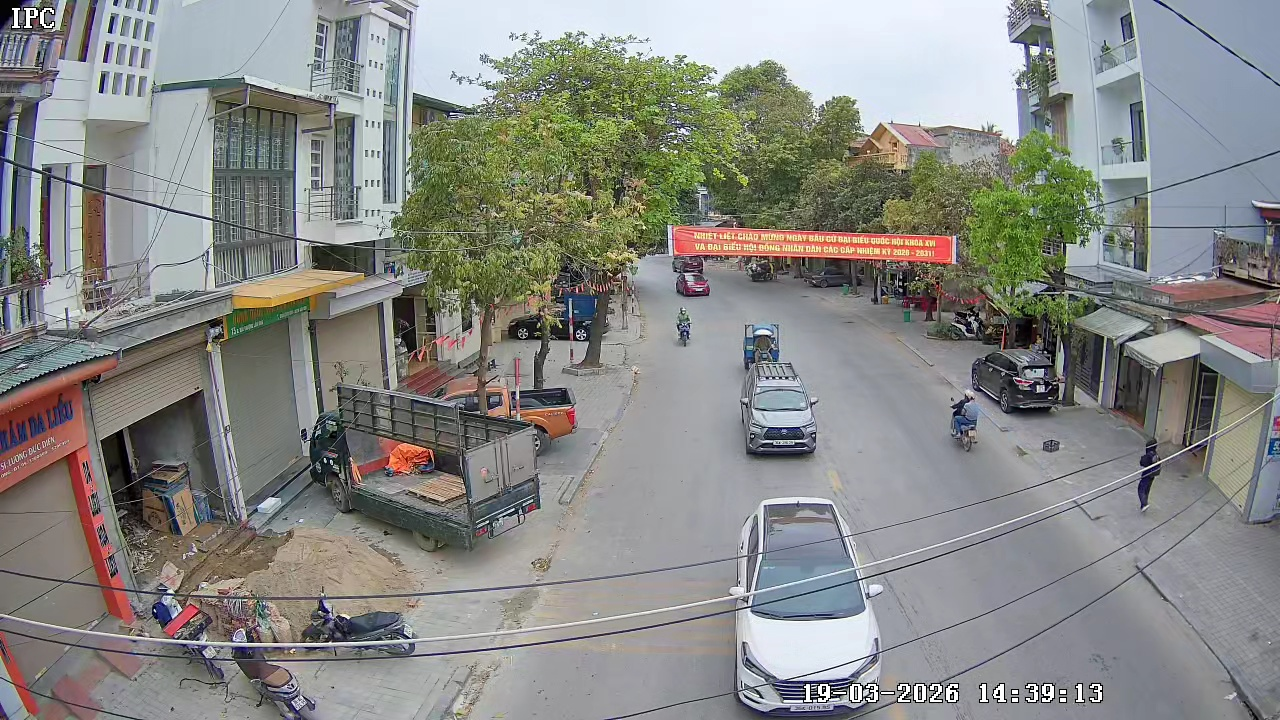car: (728, 494, 886, 715), (732, 495, 864, 595), (738, 359, 821, 457), (970, 347, 1059, 414), (512, 384, 577, 450), (678, 270, 711, 297)
motorbike: (948, 387, 981, 453), (675, 308, 692, 347)
pedestrian: (1133, 439, 1162, 514)
truck: (740, 320, 781, 368)
